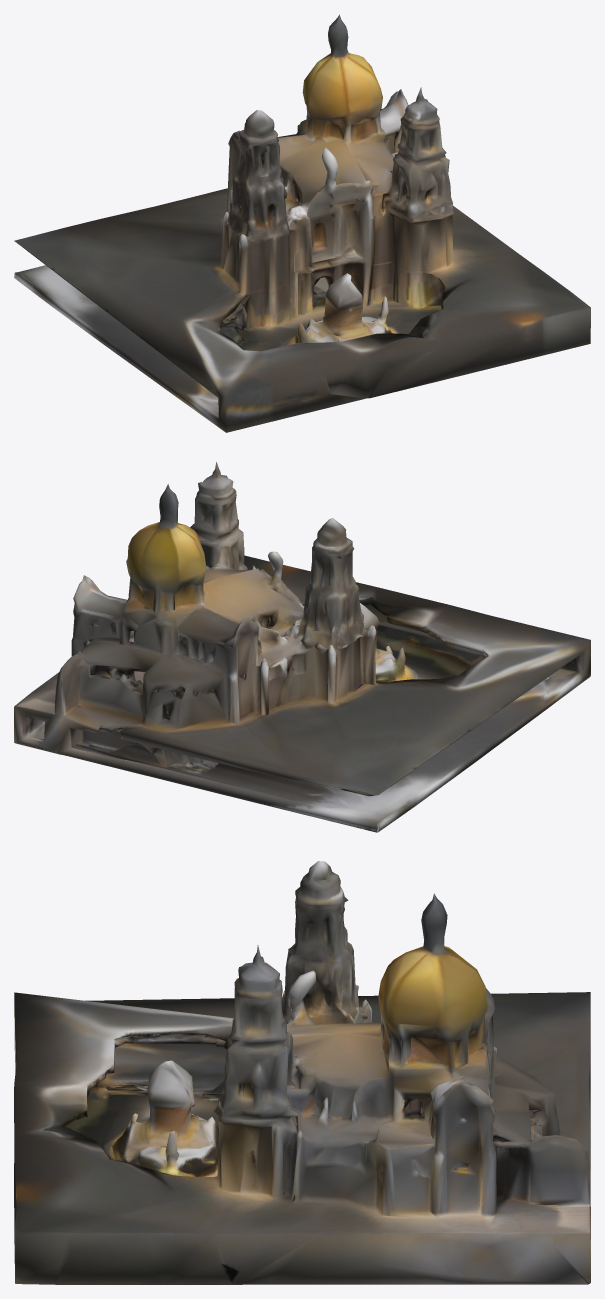
Rendered from landmark-catedral.glb.
3 views of the same model, one above another, from view 1: azimuth 30°, elevation 25°; view 2: azimuth 150°, elevation 25°; view 3: azimuth 270°, elevation 25° (orthographic). The views are drawn at different scales.
Bounding box in the file's own units: 1.99 × 1.26 × 2.
Materials: 1 (1 with a texture image).
